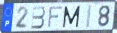2: (15, 6, 30, 30)
8: (97, 5, 111, 28)
B: (30, 6, 46, 30)
F: (47, 6, 64, 30)
I: (85, 4, 93, 29)
M: (62, 5, 81, 29)
